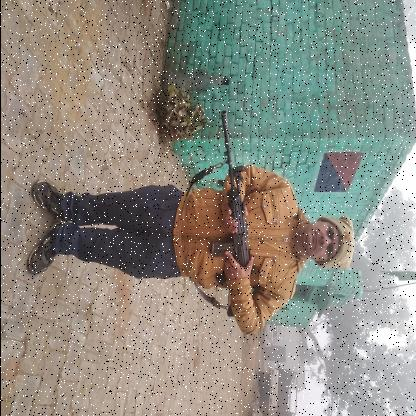rifle: (207, 110, 256, 322)
